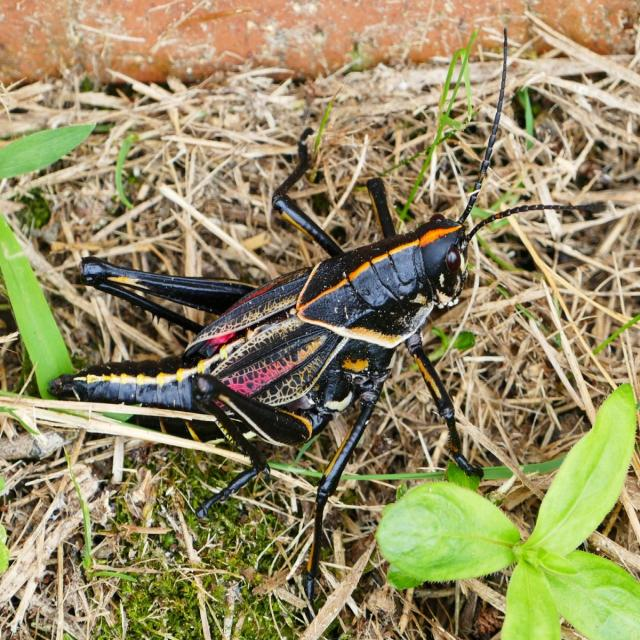ZhaMeng: (49, 174, 476, 489)
